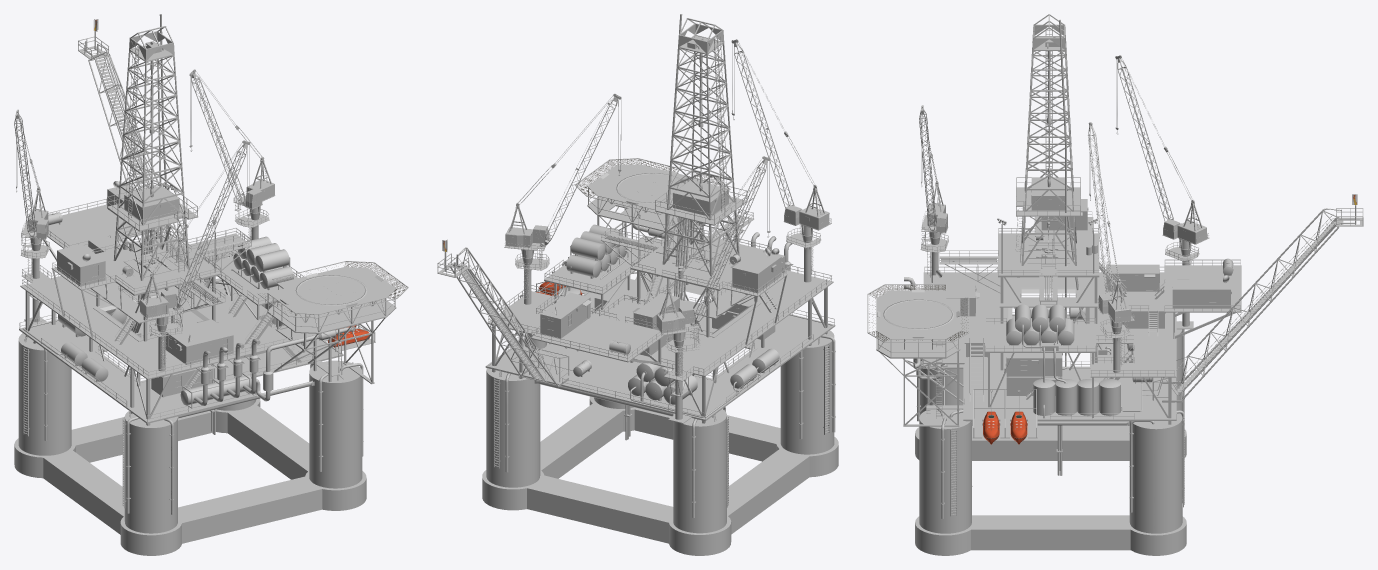
Rendered from Oil_Rig_Platform.fbx.
3 renders of one model, left to right at view 1: azimuth 30°, elevation 25°; view 2: azimuth 150°, elevation 25°; view 3: azimuth 270°, elevation 25°, orthographic. The views are drawn at different scales.
Parts seen in each view (by area): view 1: boat.002_boat.001, boat.002_boat.099, boat.002_boat.046, boat.002_boat.075, boat.002_boat.041, boat.002_boat.119, boat.002_boat.014, boat.002_boat.003, boat.002_boat.016, boat.002_boat.012, boat.002_boat.013, boat.002_boat.093 (+16 smaller); view 2: boat.002_boat.001, boat.002_boat.075, boat.002_boat.046, boat.002_boat.099, boat.002_boat.041, boat.002_boat.013, boat.002_boat.012, boat.002_boat.119, boat.002_boat.014, boat.002_boat.016, boat.002_boat.093, boat.002_boat.070 (+17 smaller); view 3: boat.002_boat.001, boat.002_boat.099, boat.002_boat.075, boat.002_boat.046, boat.002_boat.041, boat.002_boat.012, boat.002_boat.119, boat.002_boat.013, boat.002_boat.016, boat.002_boat.002, boat.002_boat.070, boat.002_boat.014 (+19 smaller).
Boxes of the visible parts, <box> form: boat.002_boat.001: <box>14,333,366,555</box>; boat.002_boat.099: <box>20,233,316,379</box>; boat.002_boat.046: <box>107,26,198,280</box>; boat.002_boat.075: <box>19,280,343,423</box>; boat.002_boat.041: <box>258,261,408,332</box>; boat.002_boat.119: <box>51,236,251,305</box>; boat.002_boat.014: <box>139,140,250,371</box>; boat.002_boat.003: <box>180,327,355,408</box>; boat.002_boat.016: <box>189,69,275,239</box>; boat.002_boat.012: <box>78,30,207,280</box>; boat.002_boat.013: <box>14,109,50,321</box>; boat.002_boat.093: <box>47,204,165,248</box>; boat.002_boat.001: <box>482,330,838,555</box>; boat.002_boat.075: <box>485,291,835,423</box>; boat.002_boat.046: <box>655,18,746,275</box>; boat.002_boat.099: <box>487,235,833,381</box>; boat.002_boat.041: <box>575,158,730,229</box>; boat.002_boat.013: <box>656,156,770,419</box>; boat.002_boat.012: <box>437,247,569,387</box>; boat.002_boat.119: <box>601,215,787,296</box>; boat.002_boat.014: <box>731,39,831,282</box>; boat.002_boat.016: <box>504,93,621,304</box>; boat.002_boat.093: <box>531,314,665,362</box>; boat.002_boat.070: <box>565,224,628,279</box>; boat.002_boat.001: <box>915,329,1186,555</box>; boat.002_boat.099: <box>923,272,1175,377</box>; boat.002_boat.075: <box>922,314,1193,420</box>; boat.002_boat.046: <box>1016,14,1080,265</box>; boat.002_boat.041: <box>867,284,969,357</box>; boat.002_boat.012: <box>1142,205,1363,402</box>; boat.002_boat.119: <box>939,217,1099,301</box>; boat.002_boat.013: <box>1115,55,1209,326</box>; boat.002_boat.016: <box>1088,122,1134,372</box>; boat.002_boat.002: <box>999,277,1164,312</box>; boat.002_boat.070: <box>1006,304,1074,350</box>; boat.002_boat.014: <box>919,105,948,282</box>.
Size of the model in its own units: 1263 by 1950 by 1881.
